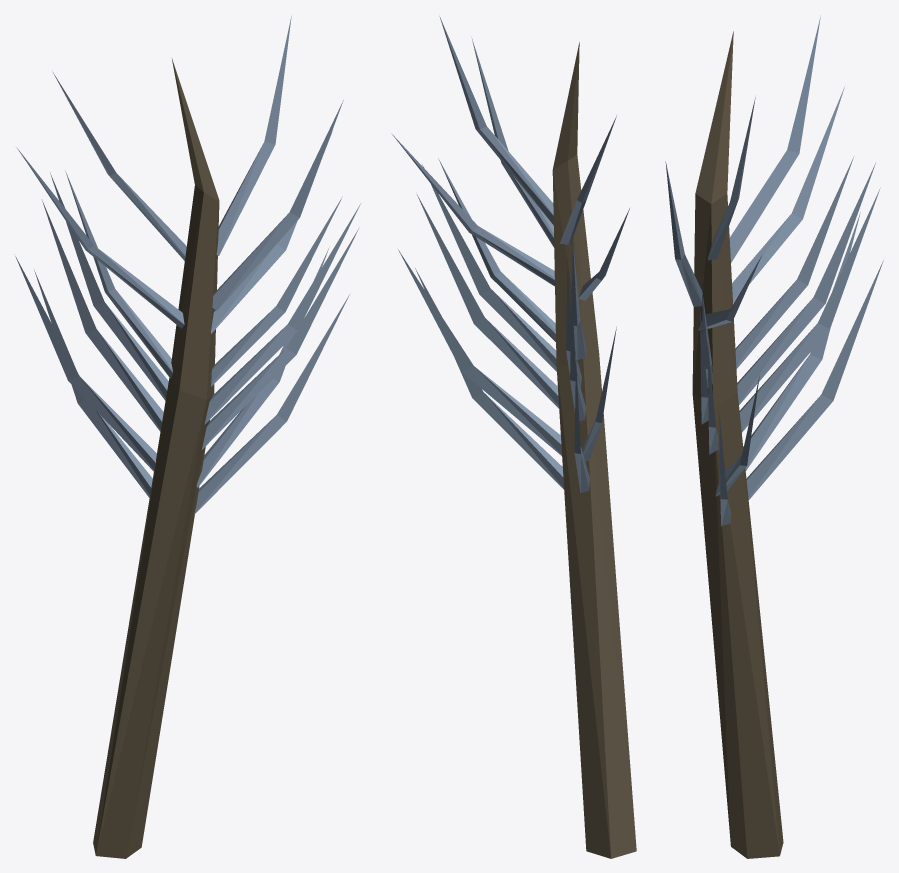
Rendered from Blue_Spruce_1_4.fbx.
3 renders of one model, left to right at view 1: azimuth 30°, elevation 25°; view 2: azimuth 150°, elevation 25°; view 3: azimuth 270°, elevation 25°, orthographic. The views are drawn at different scales.
Parts seen in each view (by area): view 1: Spurce_1_4; view 2: Spurce_1_4; view 3: Spurce_1_4.
Part boxes in pixels (left/top/right/bottom): Spurce_1_4: left=14, top=16, right=360, bottom=858; Spurce_1_4: left=391, top=16, right=636, bottom=858; Spurce_1_4: left=665, top=15, right=883, bottom=858.
Bounding box in the file's own units: 33.95 × 91.74 × 21.57.
